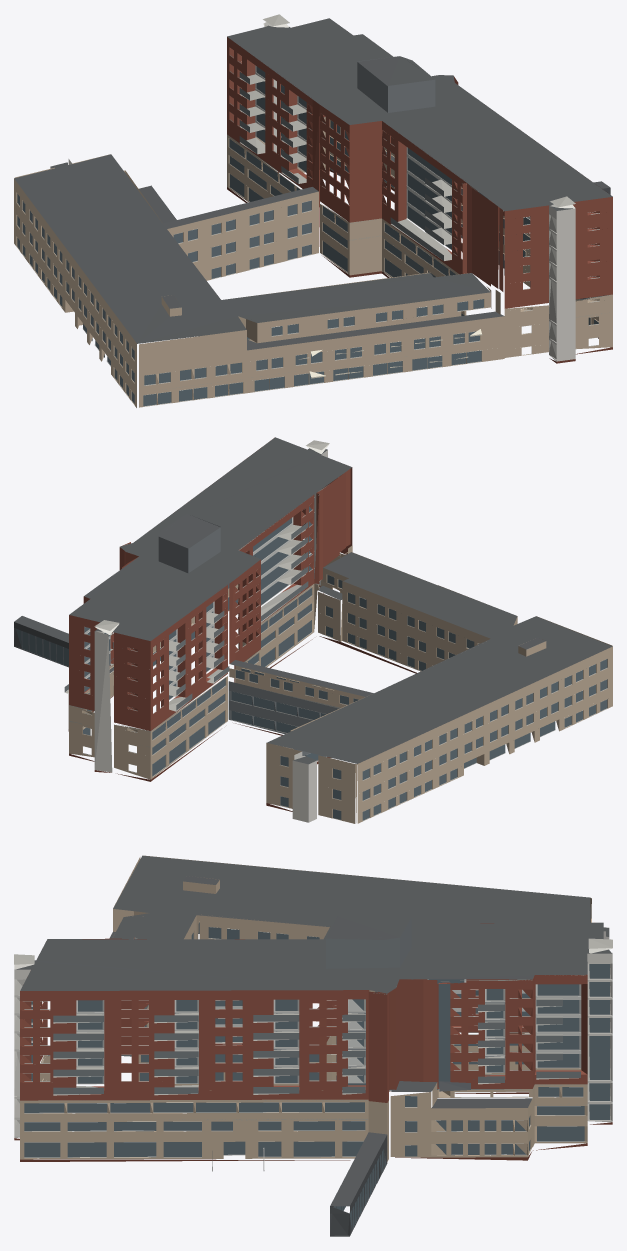
Rendered from kramatplantsoen-203.lod1.glb.
The picture shows the model from 3 angles, top to bottom: view 1: azimuth 30°, elevation 25°; view 2: azimuth 150°, elevation 25°; view 3: azimuth 270°, elevation 25°; orthographic projection. The views are drawn at different scales.
Visible parts, largest first — view 1: kramatplantsoen-203; view 2: kramatplantsoen-203; view 3: kramatplantsoen-203.
Part boxes in pixels (x1,y1,x2,y2): kramatplantsoen-203: [14, 14, 612, 407]; kramatplantsoen-203: [14, 437, 612, 823]; kramatplantsoen-203: [14, 855, 612, 1236].
Size of the model in its own units: 99.7 by 30.71 by 82.9.
